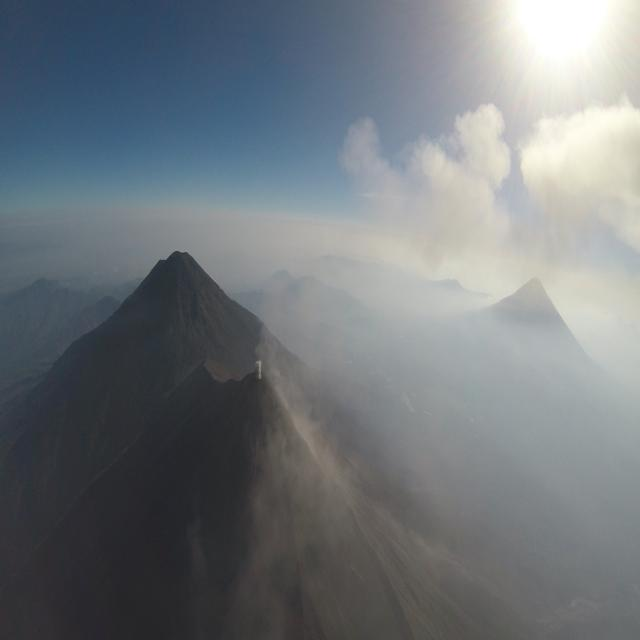Plume: (339, 99, 511, 249), (521, 99, 640, 246), (255, 361, 262, 381)
Summit: (224, 363, 296, 412)
